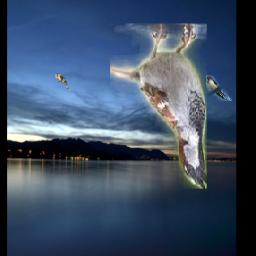Cuckoo: (54, 73, 70, 92)
Sparrow: (110, 23, 207, 189)
Swallow: (207, 76, 233, 102)
